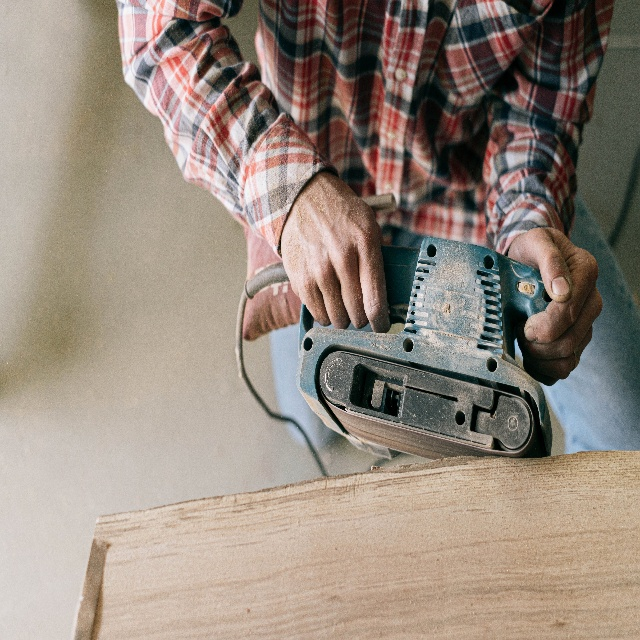Sin_guantes: (280, 171, 392, 335), (505, 226, 603, 386)
